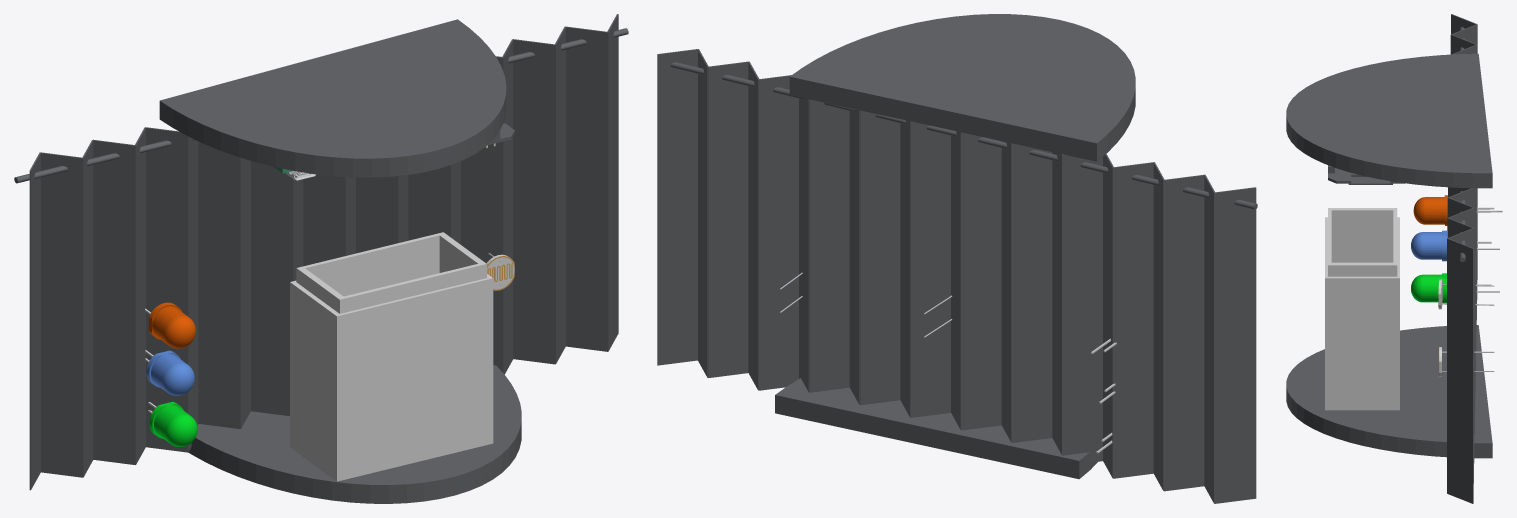
3 renders of one model, left to right at view 1: azimuth 30°, elevation 25°; view 2: azimuth 150°, elevation 25°; view 3: azimuth 270°, elevation 25°, orthographic. The views are drawn at different scales.
Parts seen in each view (by area): view 1: Mesh_Mesh_head_geo.001_lambert2SG.001; view 2: Mesh_Mesh_head_geo.001_lambert2SG.001; view 3: Mesh_Mesh_head_geo.001_lambert2SG.001.
Boxes of the visible parts, bbox=[...] form: Mesh_Mesh_head_geo.001_lambert2SG.001: bbox=[14, 14, 628, 503]; Mesh_Mesh_head_geo.001_lambert2SG.001: bbox=[657, 14, 1257, 503]; Mesh_Mesh_head_geo.001_lambert2SG.001: bbox=[1286, 14, 1502, 503].
Bounding box in the file's own units: 0.203 × 0.111 × 0.078.
